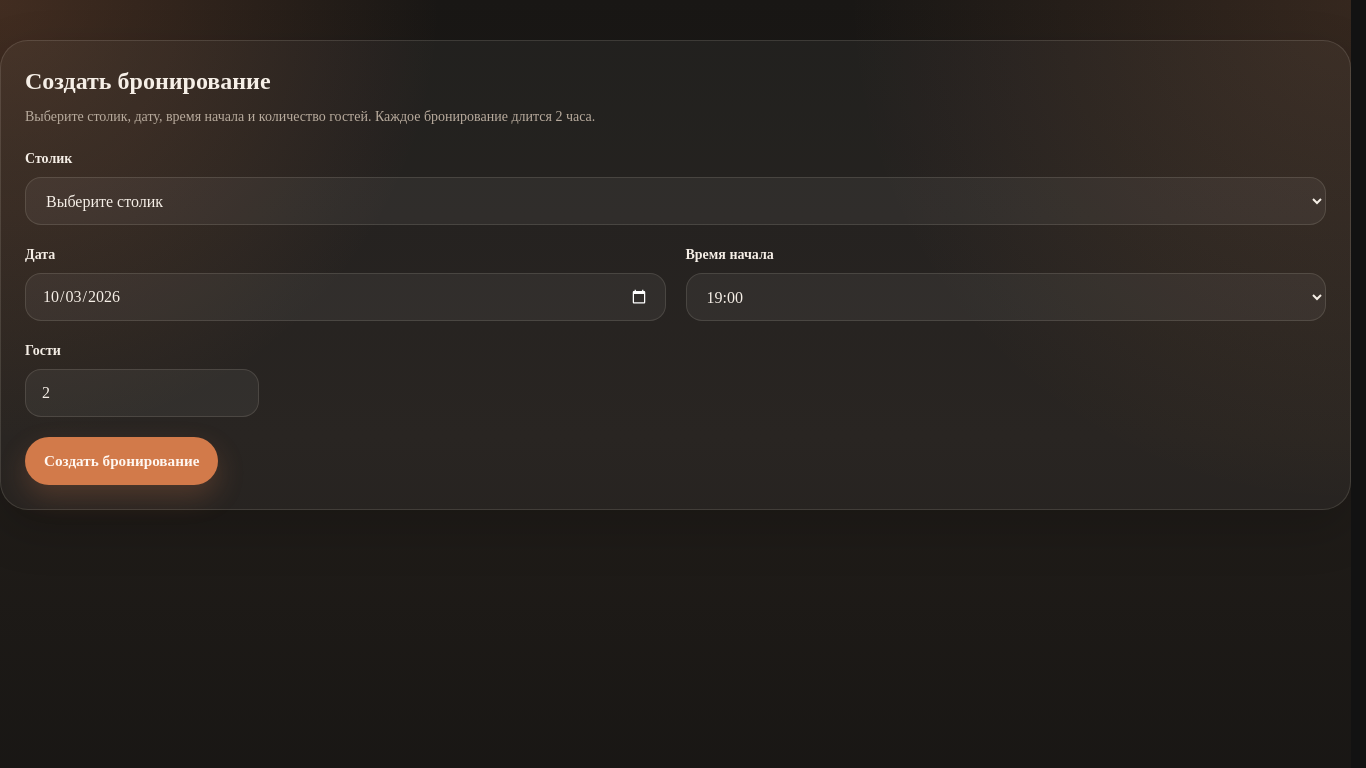
Test: BookingForm › creates booking successfully and resets table selection
Select "Table 1 · 2 guests · REGULAR" in the dropdown labelled "Столик". click: point(676, 201)
box: [25,177,1326,225]
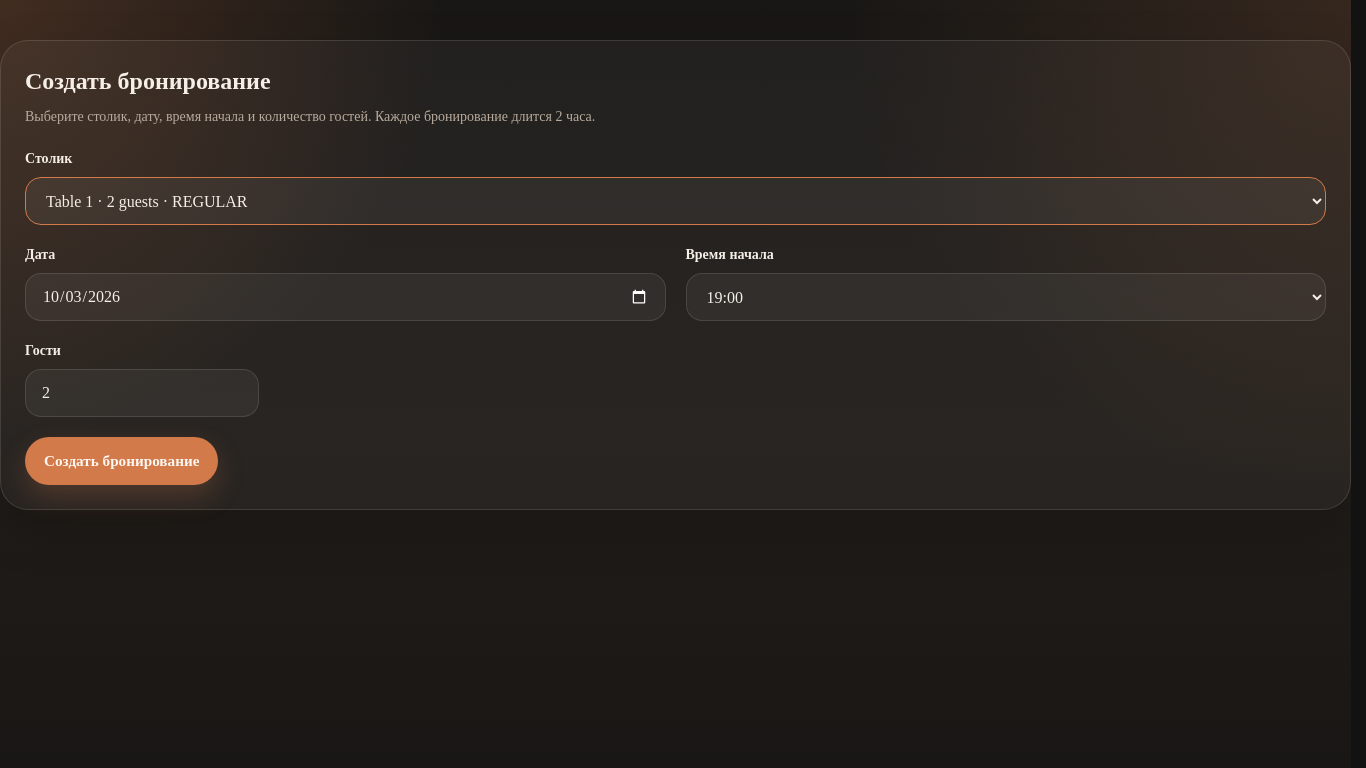
Click the button "Создать бронирование". click: point(122, 461)
box: [25,437,218,485]
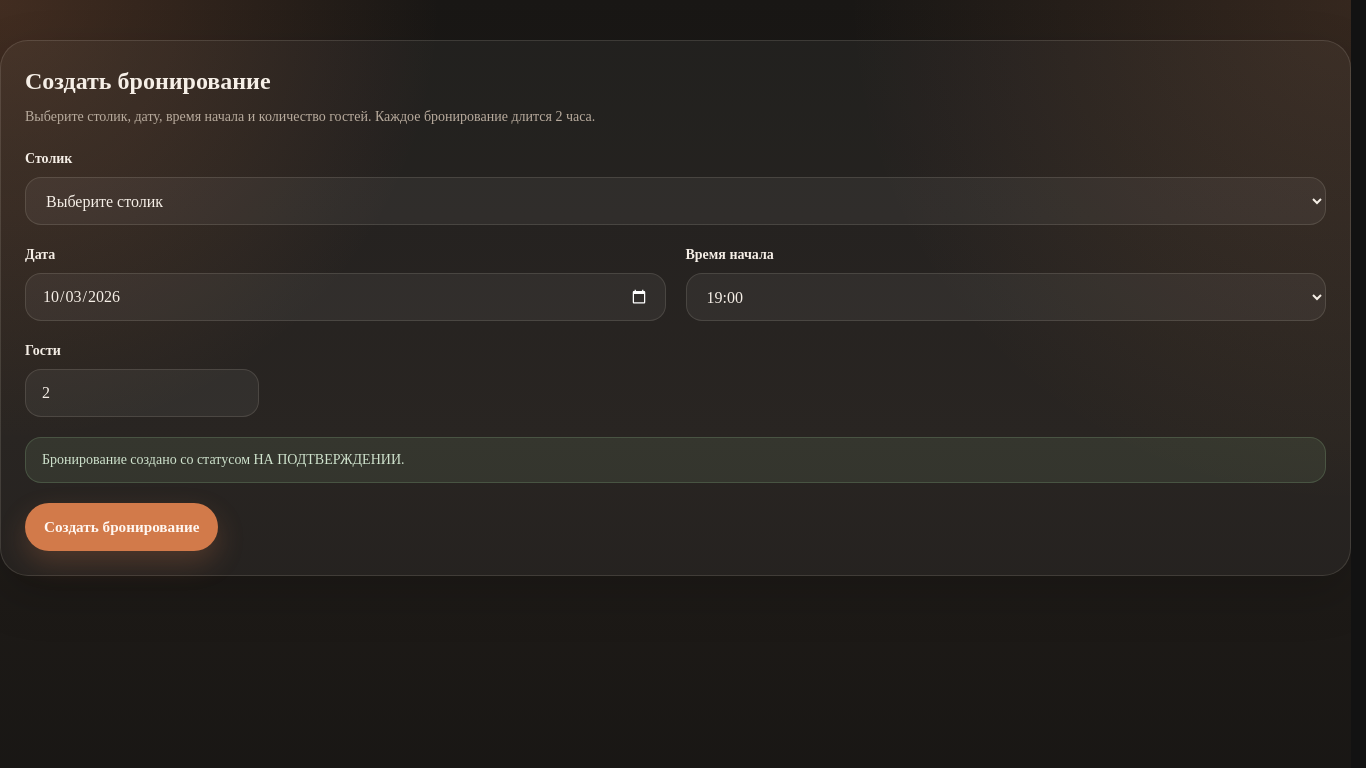
Expected: the number field labelled "Гости" holds "2", [25,369,259,417]
Now the text "Бронирование создано со статусом НА ПОДТВЕРЖДЕНИИ." is shown, box [25,437,1326,483]
